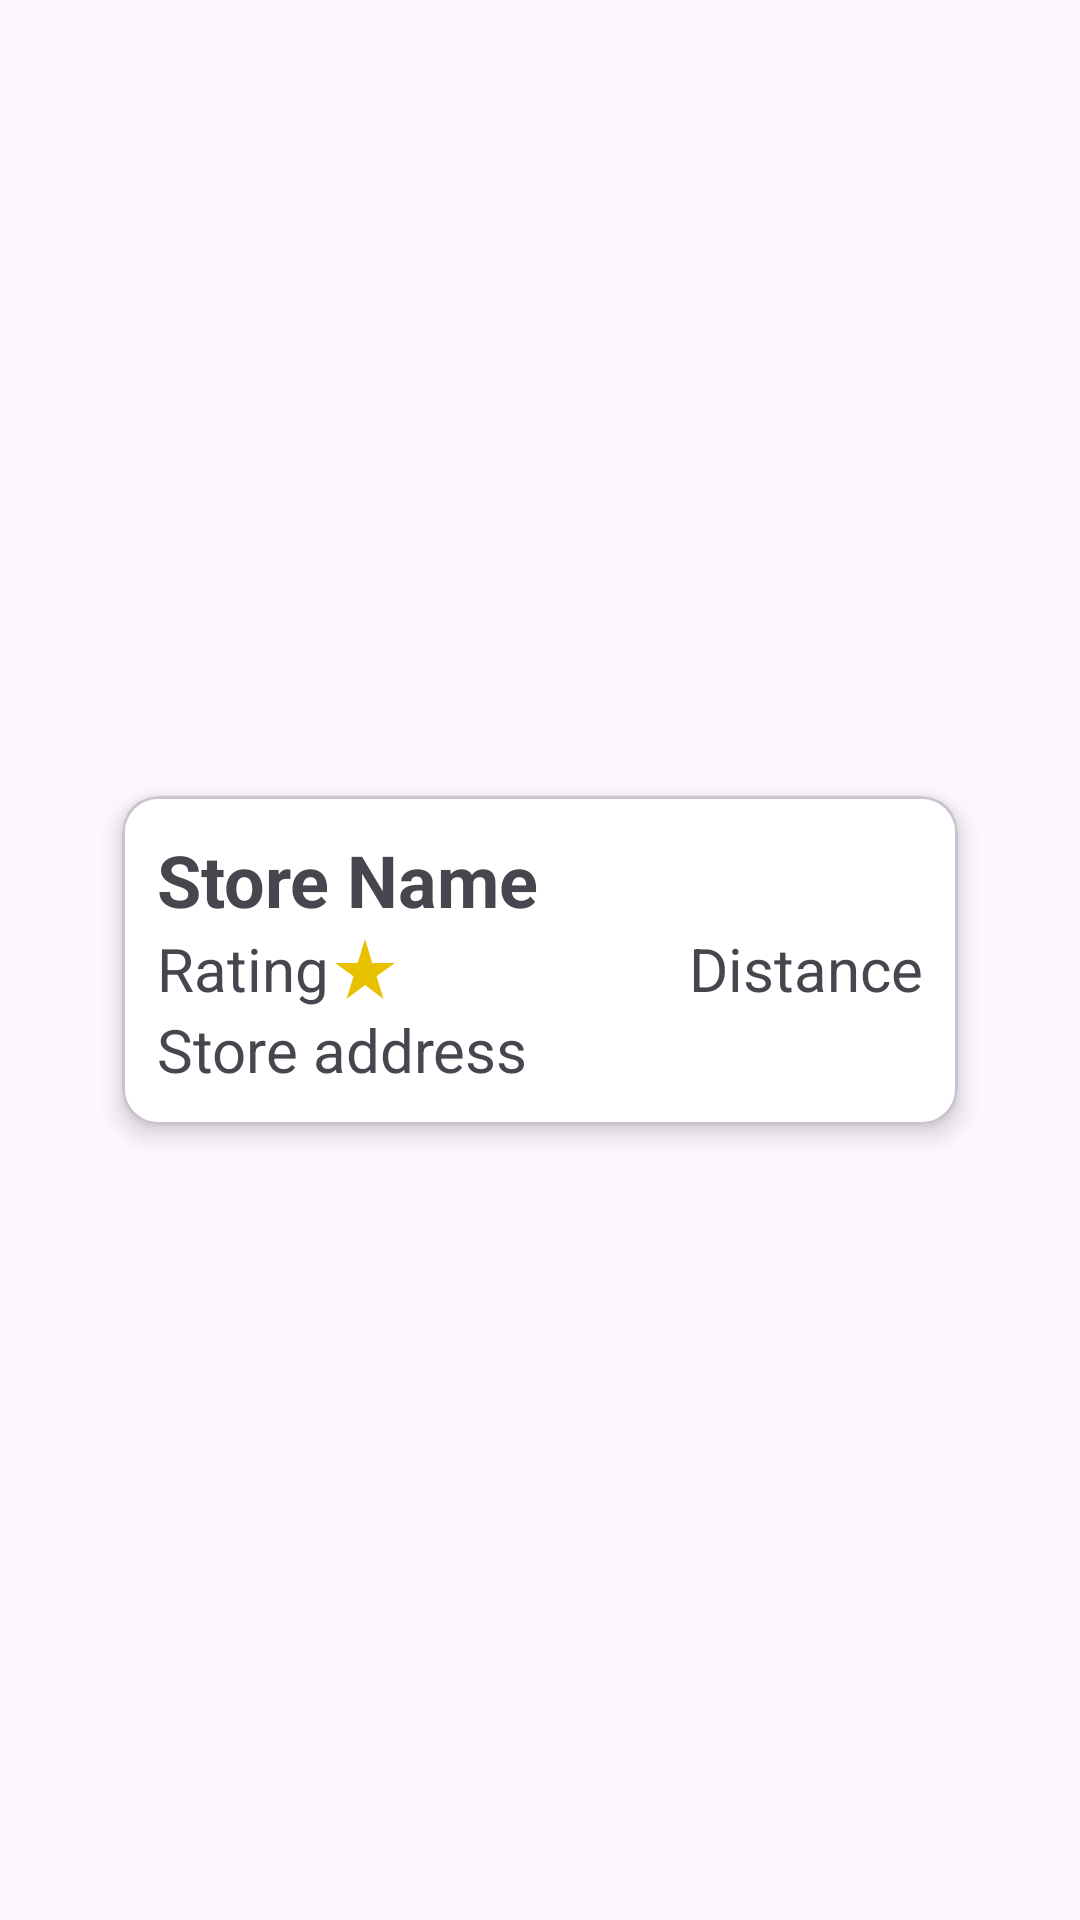

Named icons in this screenshot (1080px×1920px) and their bounding boxes, box(x1, y1, x2, y2):
gold star: box(335, 939, 395, 999)
